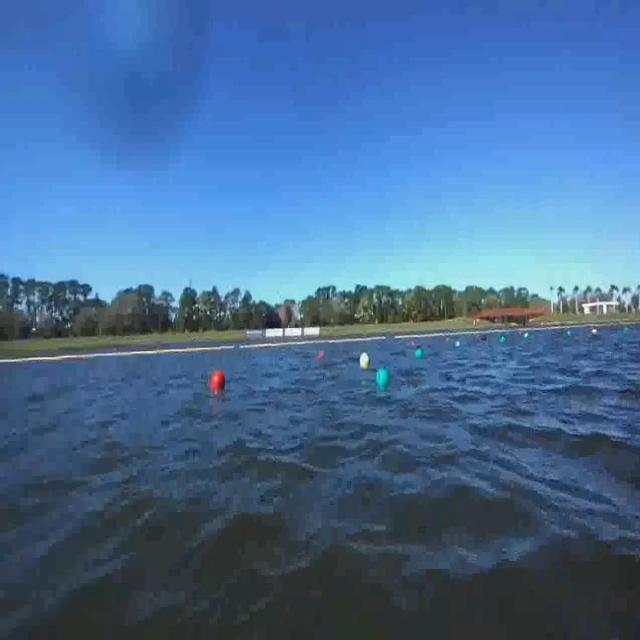green-buoy: (378, 368, 390, 388), (416, 348, 424, 360)
red-buoy: (212, 370, 226, 388), (317, 350, 325, 360)
yellow-buoy: (360, 352, 370, 368)
